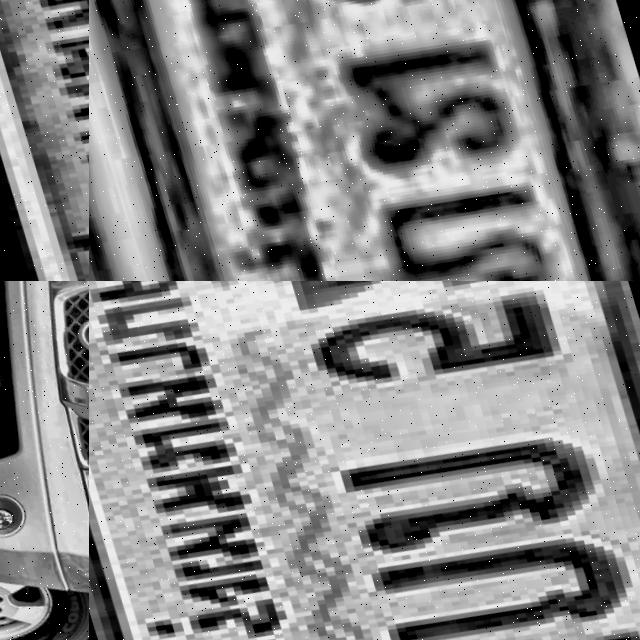license-plate: (89, 281, 640, 640), (89, 0, 640, 281), (0, 0, 89, 281)
